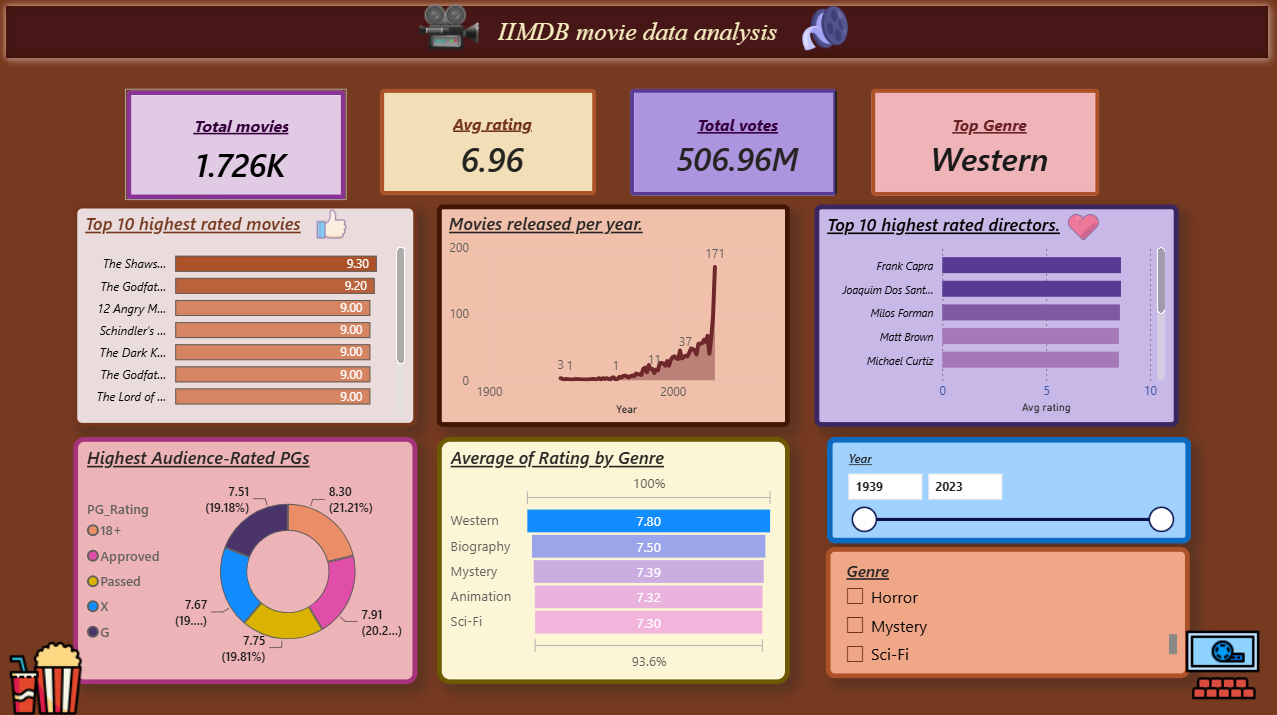

The page's visual inventory and layout, read from the dashboard file:
{"tool":"powerbi","page":{"name":"Page 1","canvas":[1280,720],"ordinal":0},"visuals":[{"type":"cardVisual","fields":{"Data":["imdb_data.total movies"]},"box":[144,18.7,254.7,144],"z":0},{"type":"cardVisual","fields":{"Data":["imdb_data.Avg rating"]},"box":[398.7,18.7,249.3,140],"z":1000},{"type":"cardVisual","fields":{"Data":["imdb_data.total votes"]},"box":[662.7,20,241.3,141.3],"z":2000},{"type":"cardVisual","fields":{"Data":["imdb_data.Top Genre"]},"box":[904,18.7,261.3,140],"z":3000},{"type":"clusteredBarChart","title":"Top 10 highest rated movies ","fields":{"Category":["imdb_data.Moive_Name"],"Y":["Avg(imdb_data.Rating)"]},"box":[52,162.8,383.3,257.8],"z":4000},{"type":"lineChart","title":"Movies released per year.","fields":{"Y":["Count(imdb_data.Moive_Name)"],"Category":["imdb_data.Year"]},"box":[448,162.7,398.7,258.7],"z":5000},{"type":"clusteredBarChart","title":"Top 10 highest rated directors.","fields":{"Y":["imdb_data.Avg rating"],"Category":["imdb_data.Director"]},"box":[869.3,164,369.3,257.3],"z":6000},{"type":"donutChart","title":"Highest Audience-Rated PGs","fields":{"Category":["imdb_data.PG_Rating"],"Y":["Avg(imdb_data.Rating)"]},"box":[52,430.7,382.7,254.7],"z":7000},{"type":"funnel","fields":{"Y":["Avg(imdb_data.Rating)"],"Category":["imdb_data.Genre"]},"box":[448,430.7,398.7,256],"z":8000},{"type":"slicer","fields":{"Values":["imdb_data.Year"]},"box":[869.3,440,368,105.3],"z":10000},{"type":"slicer","fields":{"Values":["imdb_data.Genre"]},"box":[869.3,546.7,368,140],"z":11000}]}

Visuals, with their boxes in screenshot pixels (x1, y1, x2, y2), scaled from the page's 1280x720 canvas onto the 1277x715 screenshot:
cardVisual - imdb_data.total movies: region(144, 19, 398, 162)
cardVisual - imdb_data.Avg rating: region(398, 19, 646, 158)
cardVisual - imdb_data.total votes: region(661, 20, 902, 160)
cardVisual - imdb_data.Top Genre: region(902, 19, 1163, 158)
"Top 10 highest rated movies " clusteredBarChart: region(52, 162, 434, 418)
"Movies released per year." lineChart: region(447, 162, 845, 418)
"Top 10 highest rated directors." clusteredBarChart: region(867, 163, 1236, 418)
"Highest Audience-Rated PGs" donutChart: region(52, 428, 434, 681)
funnel - Avg(imdb_data.Rating) x imdb_data.Genre: region(447, 428, 845, 682)
slicer - imdb_data.Year: region(867, 437, 1234, 542)
slicer - imdb_data.Genre: region(867, 543, 1234, 682)
